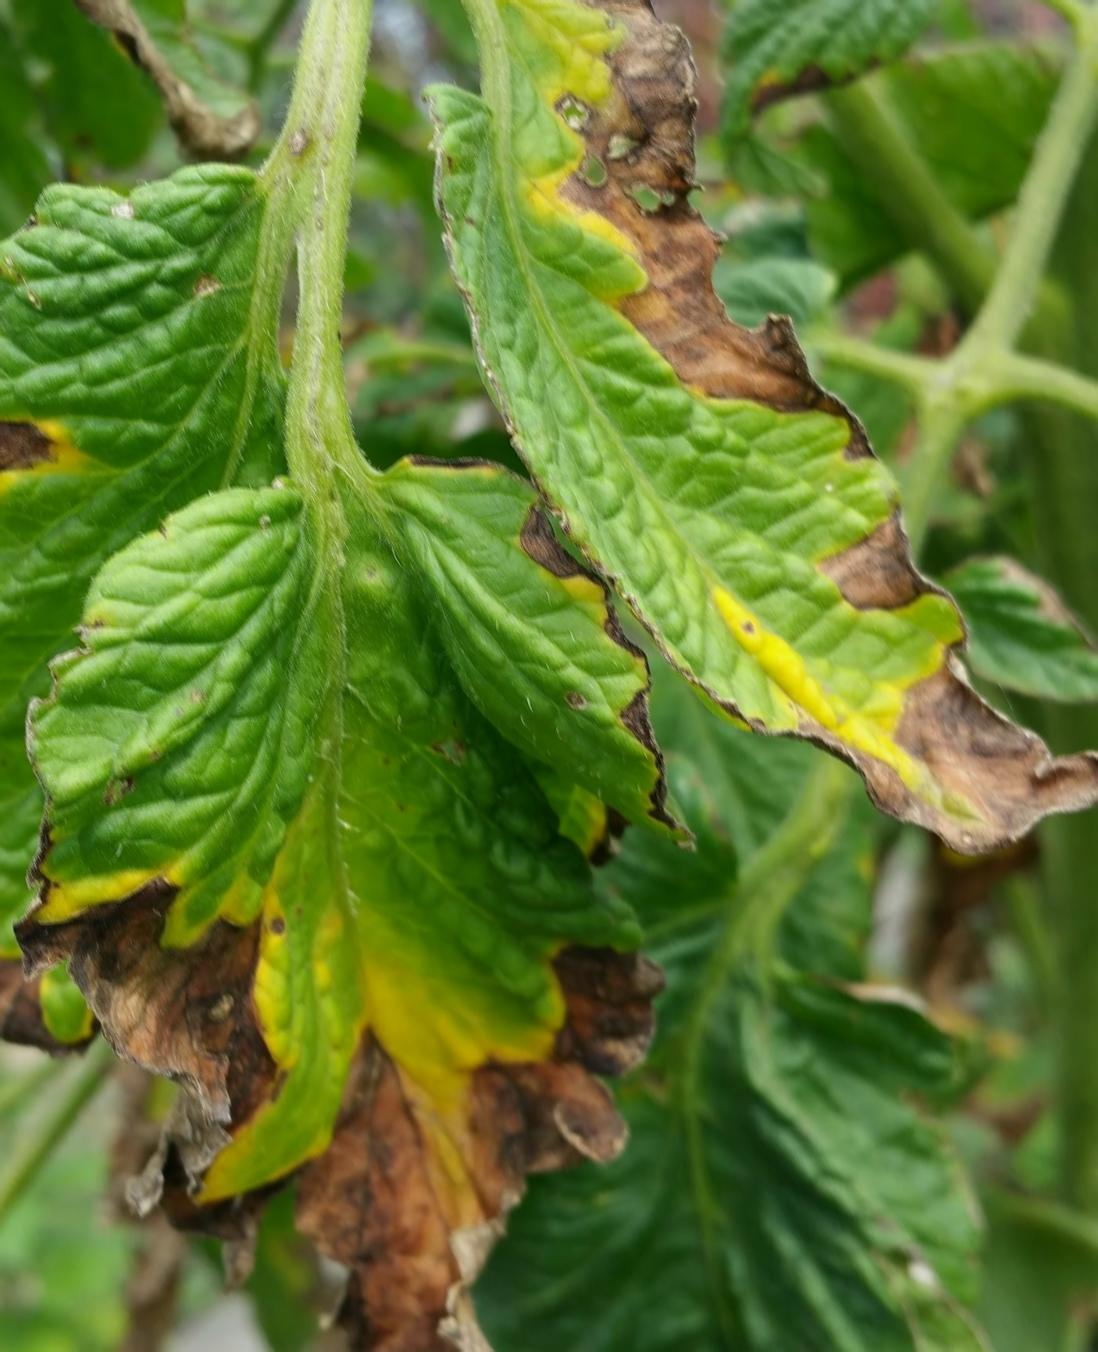Tomato leaf bacterial spot: (15, 414, 655, 1352), (428, 0, 1070, 874), (0, 141, 339, 1074)
